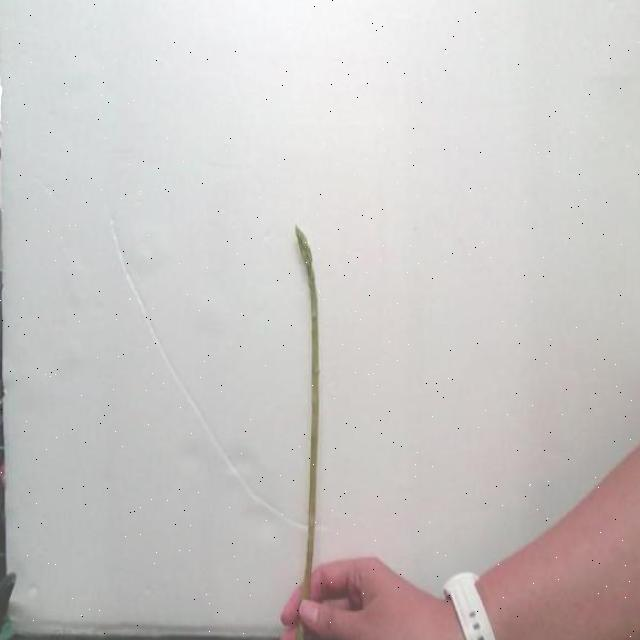aspargus: (296, 228, 323, 583)
